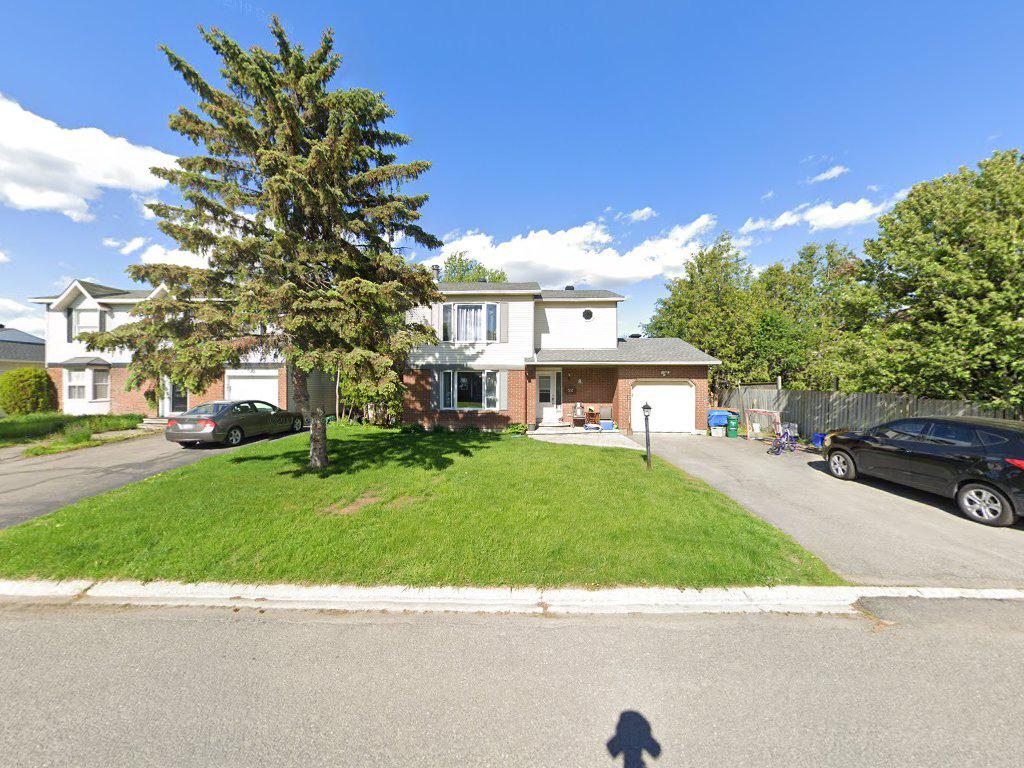trunk: (304, 367, 335, 484)
